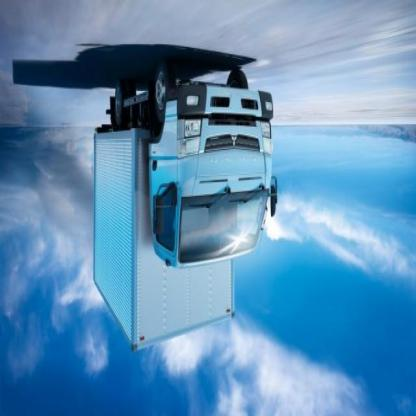truck: (93, 58, 279, 351)
